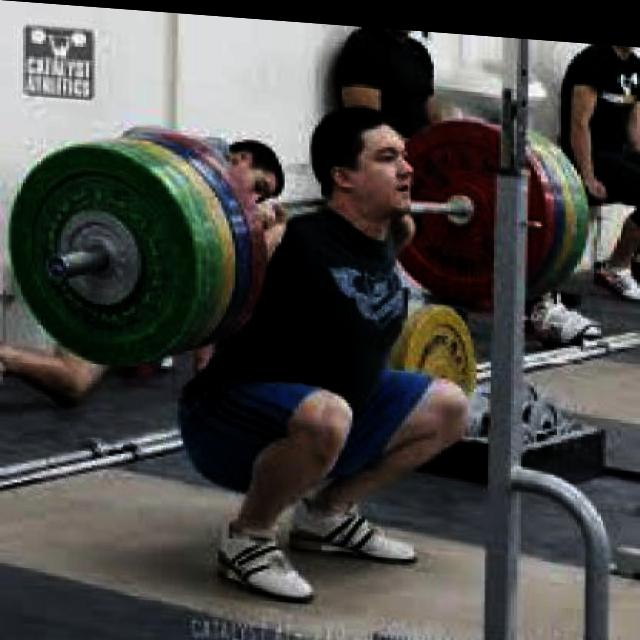barbell: (3, 135, 203, 376)
